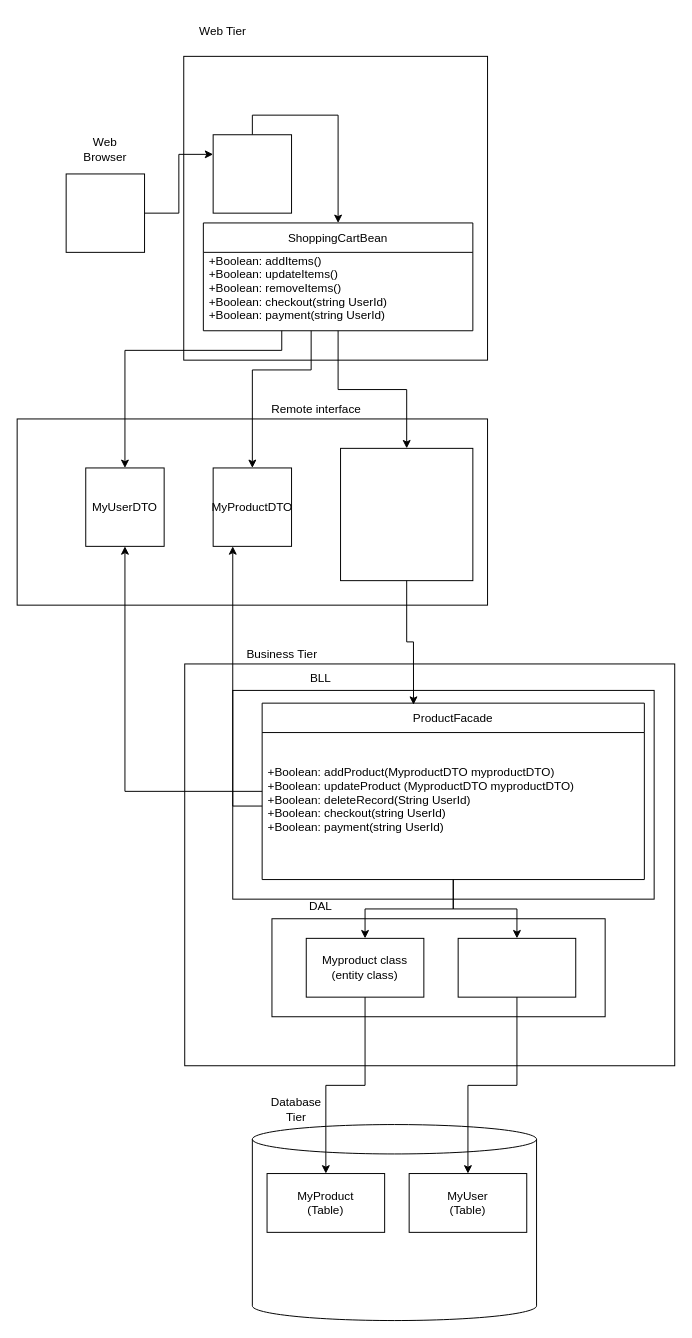
Some shapes in this 692 by 1338 pixel diagram are drawn without their labels. Each missing label, with the centre of its shape:
Myuser class (entity class): (x=516, y=967)
ProductFacadeRemote: (x=406, y=514)
webpages: (x=252, y=173)
